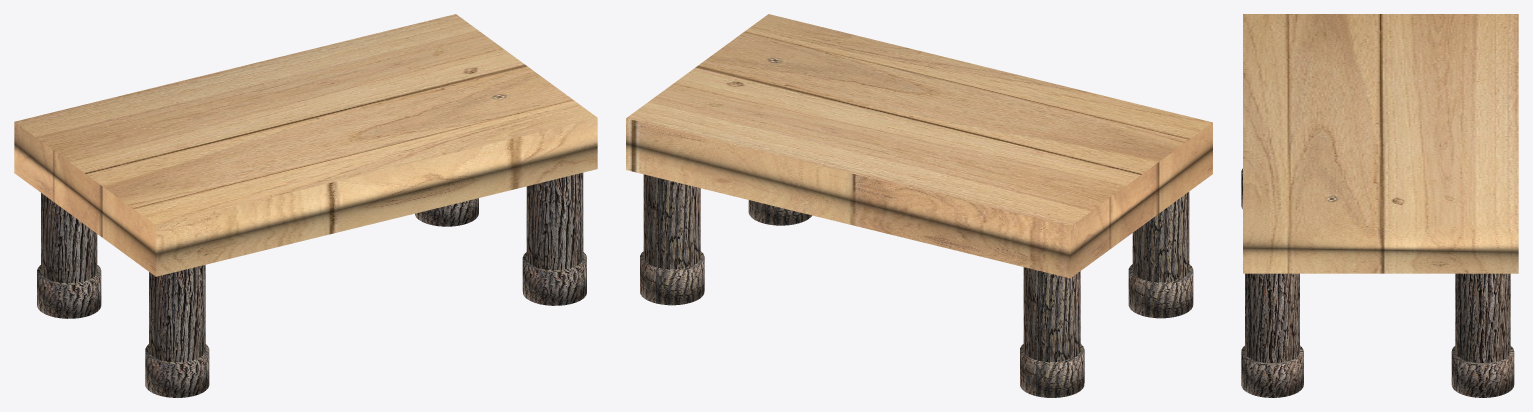
The model's file is Table.fbx.
3 renders of one model, left to right at view 1: azimuth 30°, elevation 25°; view 2: azimuth 150°, elevation 25°; view 3: azimuth 270°, elevation 25°, orthographic. The views are drawn at different scales.
Parts seen in each view (by area): view 1: Cube, Cylinder.003, Cylinder.005, Cylinder.007, Cylinder.006, Cylinder.008, Cylinder.004, Cylinder.002; view 2: Cube, Cylinder.007, Cylinder.001, Cylinder.005, Cylinder.006, Cylinder.002, Cylinder.008, Cylinder.004; view 3: Cube, Cylinder.001, Cylinder.003, Cylinder.002, Cylinder.004.
Part boxes in pixels (x1,y1,x2,y2): Cube: (14,14,597,276); Cylinder.003: (526,172,583,270); Cylinder.005: (149,265,205,362); Cylinder.007: (41,193,97,283); Cylinder.006: (145,344,209,397); Cylinder.008: (37,265,101,318); Cylinder.004: (522,252,586,305); Cylinder.002: (415,198,478,226); Cube: (626,14,1212,278); Cylinder.007: (1023,267,1080,361); Cylinder.001: (643,174,700,269); Cylinder.005: (1132,192,1189,282); Cylinder.006: (1128,264,1193,318); Cylinder.002: (640,251,704,305); Cylinder.008: (1020,344,1084,397); Cylinder.004: (748,200,811,225); Cube: (1243,14,1518,273); Cylinder.001: (1455,273,1510,363); Cylinder.003: (1245,273,1299,363); Cylinder.002: (1451,346,1514,397); Cylinder.004: (1241,345,1303,397).
Bounding box in the file's own units: 360 × 139 × 201.
